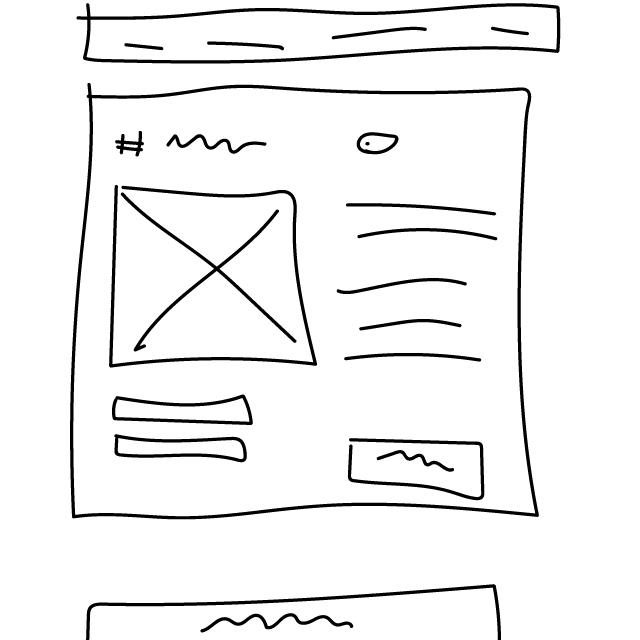button: (344, 433, 489, 502)
checkbox: (357, 130, 403, 156)
container: (68, 72, 560, 538)
footer: (74, 580, 513, 640)
frame: (107, 176, 323, 371)
heading: (115, 123, 271, 162)
input: (108, 387, 259, 429), (110, 431, 255, 466)
nav: (76, 2, 574, 67)
text: (335, 198, 503, 374)
